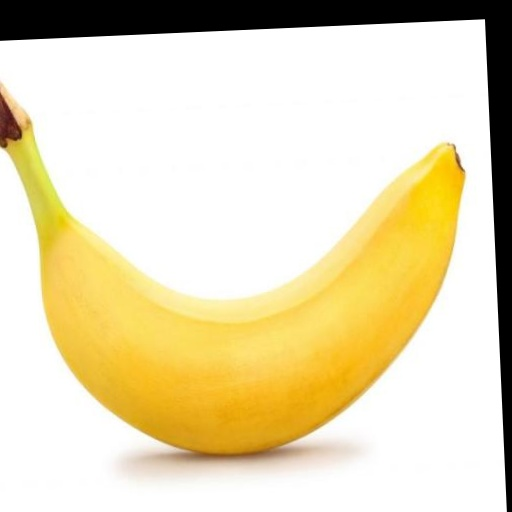fruit: (0, 80, 464, 453)
